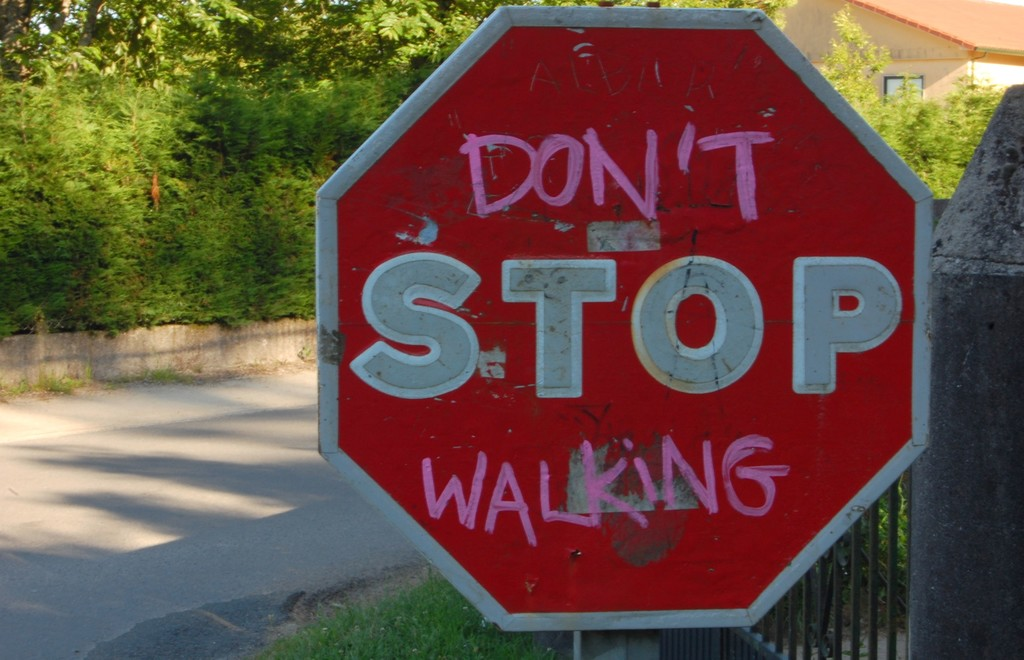stop_sign: (315, 9, 932, 621)
